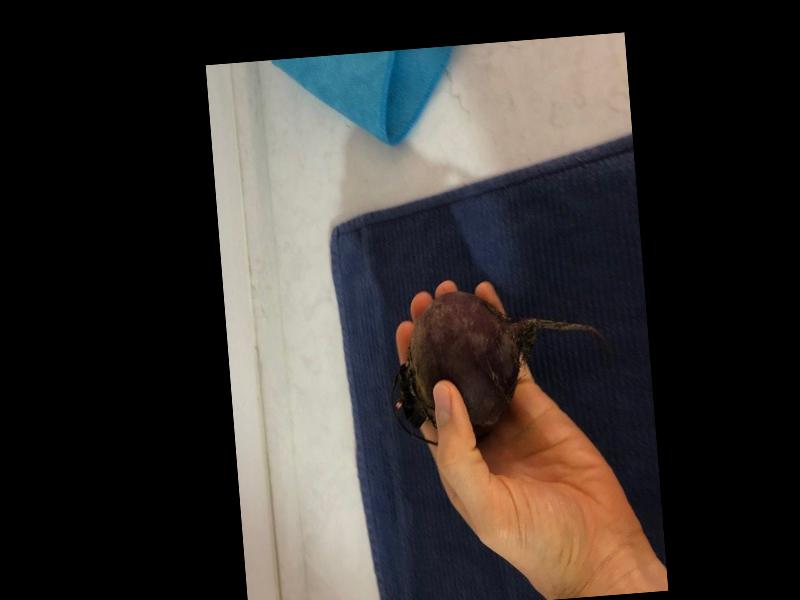Beet: (384, 281, 611, 450)
